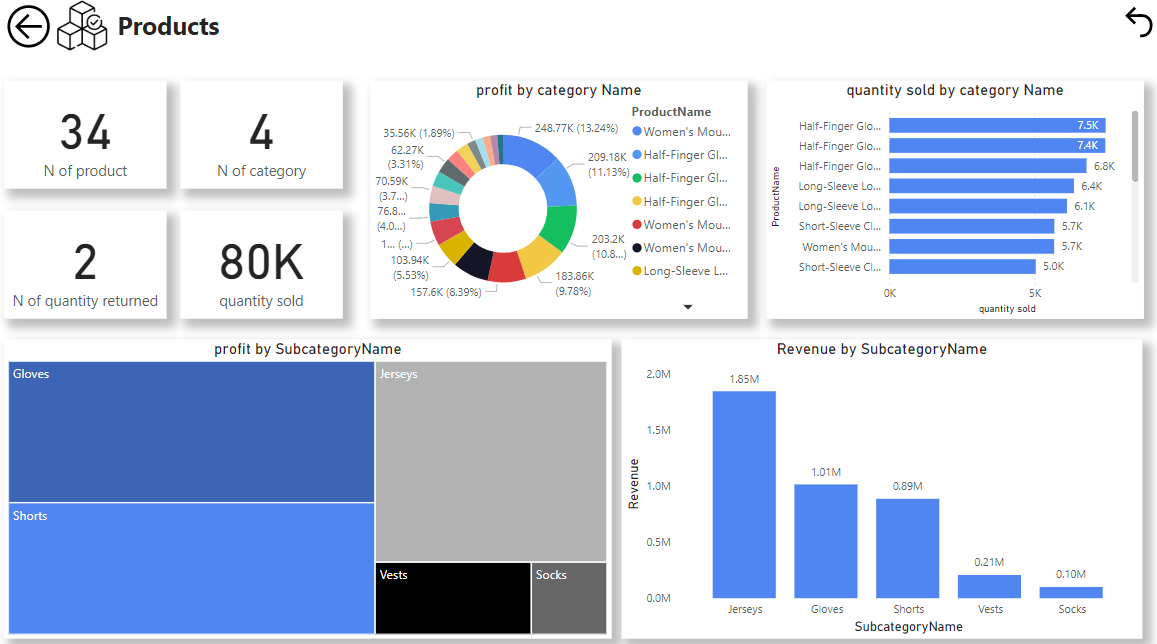

Layout of this report page (visuals, bound fields, positions):
{"tool":"powerbi","page":{"name":"products","canvas":[1280,720],"ordinal":3},"visuals":[{"type":"actionButton","box":[13.7,12.3,112.5,59],"z":0},{"type":"image","box":[70,0,64.5,82.3],"z":1000},{"type":"textbox","box":[134.5,17.8,131.7,46.7],"z":2000},{"type":"actionButton","box":[1229.2,15.1,50.8,43.9],"z":3000},{"type":"card","fields":{"Values":["key measure.N of product"]},"box":[16.2,100.3,177,118],"z":4000},{"type":"card","fields":{"Values":["key measure.N of category"]},"box":[208,100.3,177,118],"z":5000},{"type":"card","fields":{"Values":["key measure.N of quantity returned"]},"box":[16.2,241.9,177,118],"z":6000},{"type":"card","fields":{"Values":["key measure.quantity sold"]},"box":[208,241.9,177,118],"z":7000},{"type":"donutChart","title":"profit by category Name","fields":{"Y":["key measure.profit"],"Category":["Products.ProductName"]},"box":[414.5,100.3,410,259.6],"z":8000},{"type":"clusteredBarChart","title":"quantity sold by category Name","fields":{"Category":["Products.ProductName"],"Y":["key measure.quantity sold"]},"box":[845.2,100.3,410,259.6],"z":9000},{"type":"treemap","fields":{"Group":["Product_Subcategories.SubcategoryName"],"Values":["key measure.profit"]},"box":[16.2,382,660.8,326],"z":10000},{"type":"columnChart","fields":{"Category":["Product_Subcategories.SubcategoryName"],"Y":["key measure.Revenue"]},"box":[687.6,382.5,566.4,325.5],"z":11000}]}

Visuals, with their boxes in screenshot pixels (x1, y1, x2, y2), scaled from the page's 1280x720 canvas onto the 1157x644 screenshot:
actionButton: (x1=12, y1=11, x2=114, y2=64)
image: (x1=63, y1=0, x2=122, y2=74)
textbox: (x1=122, y1=16, x2=241, y2=58)
actionButton: (x1=1111, y1=14, x2=1156, y2=53)
card - key measure.N of product: (x1=15, y1=90, x2=175, y2=195)
card - key measure.N of category: (x1=188, y1=90, x2=348, y2=195)
card - key measure.N of quantity returned: (x1=15, y1=216, x2=175, y2=322)
card - key measure.quantity sold: (x1=188, y1=216, x2=348, y2=322)
"profit by category Name" donutChart: (x1=375, y1=90, x2=745, y2=322)
"quantity sold by category Name" clusteredBarChart: (x1=764, y1=90, x2=1135, y2=322)
treemap - Product_Subcategories.SubcategoryName x key measure.profit: (x1=15, y1=342, x2=612, y2=633)
columnChart - Product_Subcategories.SubcategoryName x key measure.Revenue: (x1=622, y1=342, x2=1133, y2=633)
